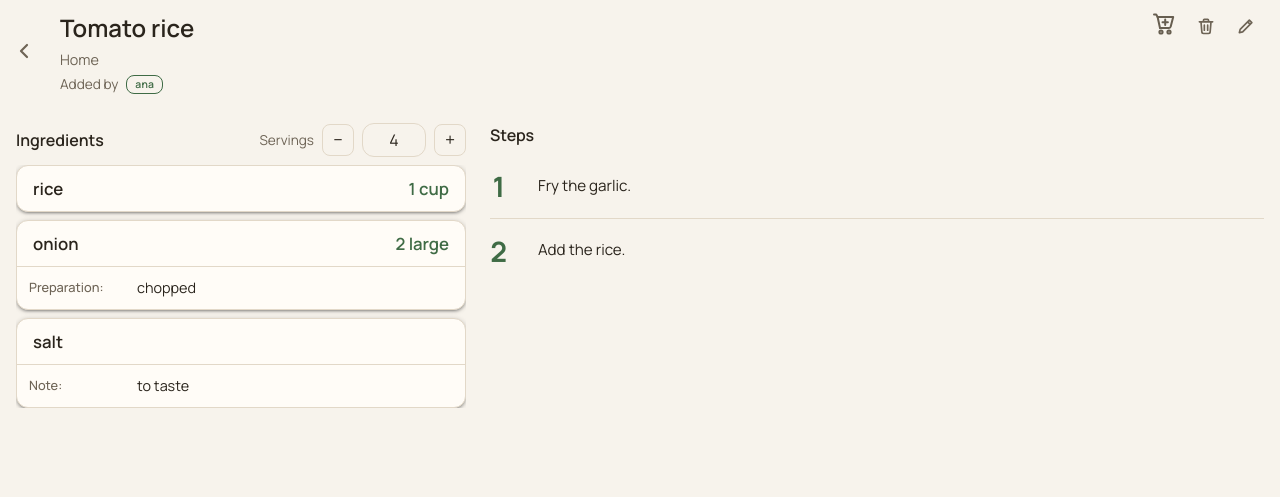
it: RecipeDetailScreen › toasts the refusal when someone else edits the cart
Step 1. Click the button named "Add to cart" → (1164, 24), box [1148,8,1180,40]
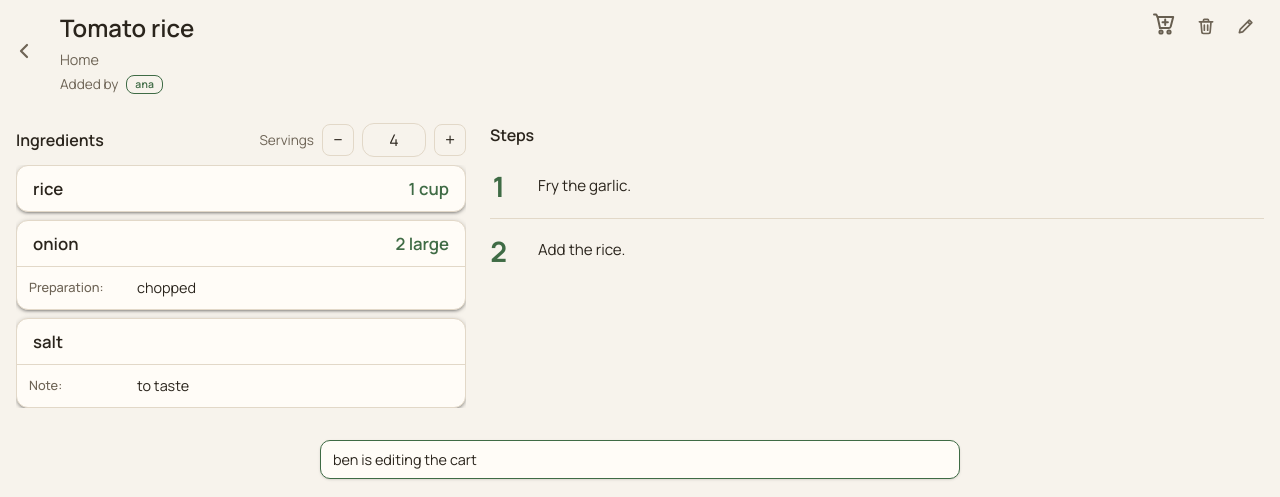
Expected: the element showing "ben is editing the cart" is shown, [320,440,960,479]
